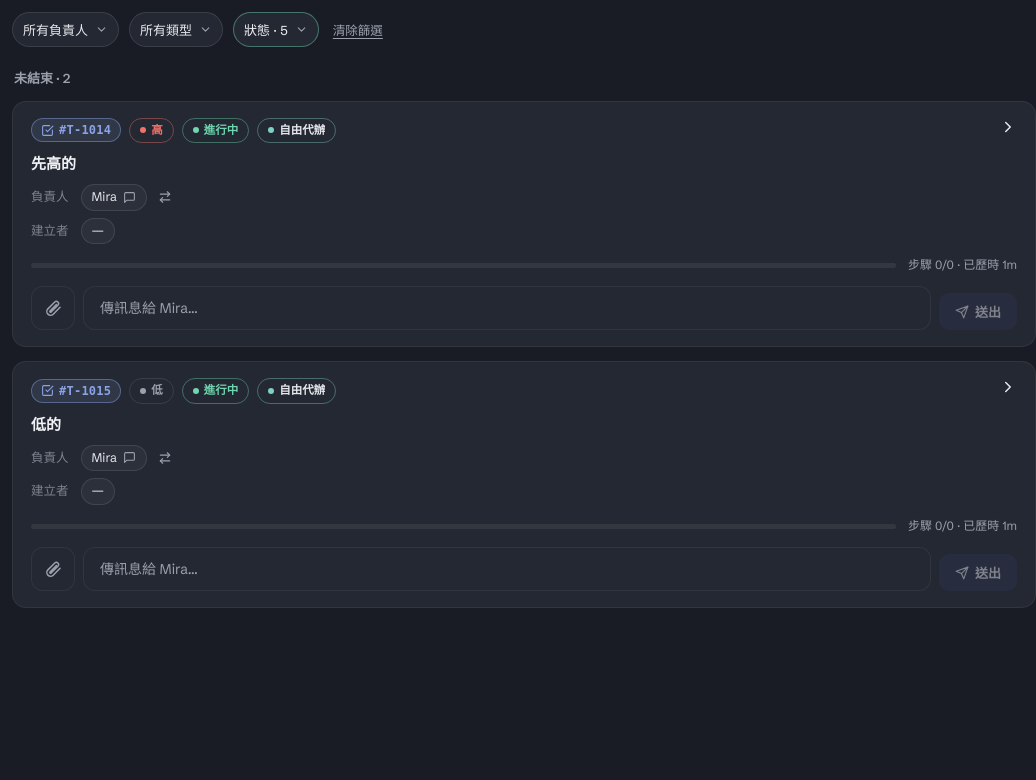
TasksPage › changes priority (freeze) through the in-place chip picker — the frozen task drops to the tail
Expected: the heading with class "task-card__title" reads "先高的", [31,154,76,173]
Click the button with test id "task-priority" showing "高" at coordinates (152, 130), box [129,118,174,143]
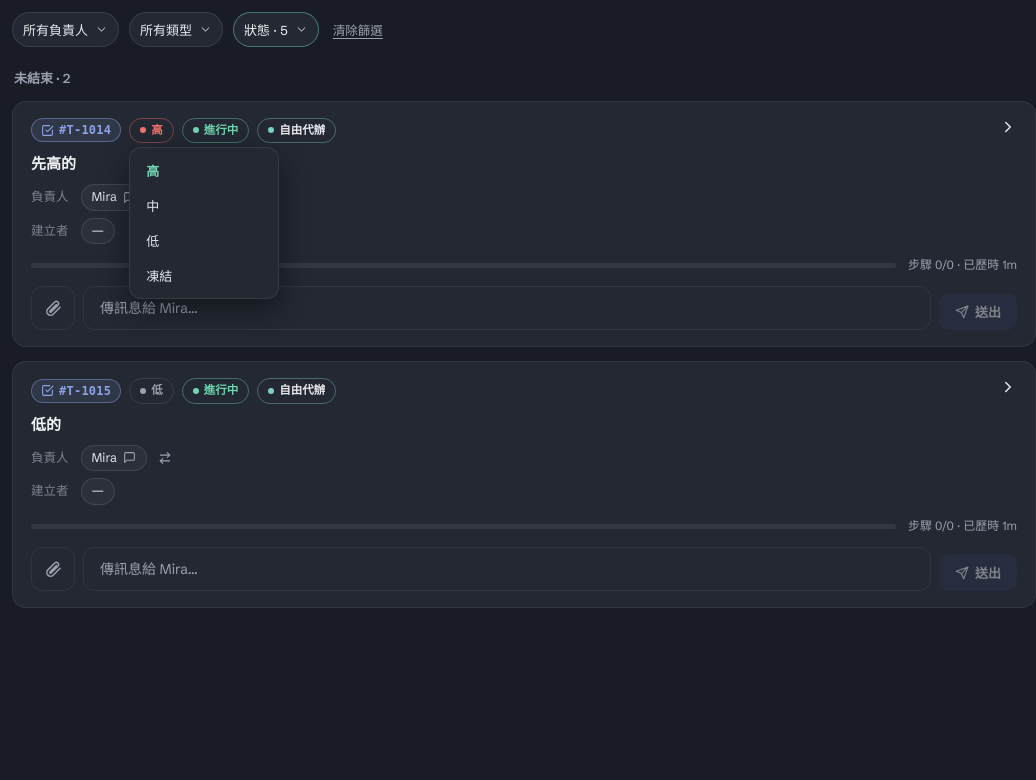
Click the menu item with test id "priority-frozen" at coordinates (204, 275), box [136,259,272,292]
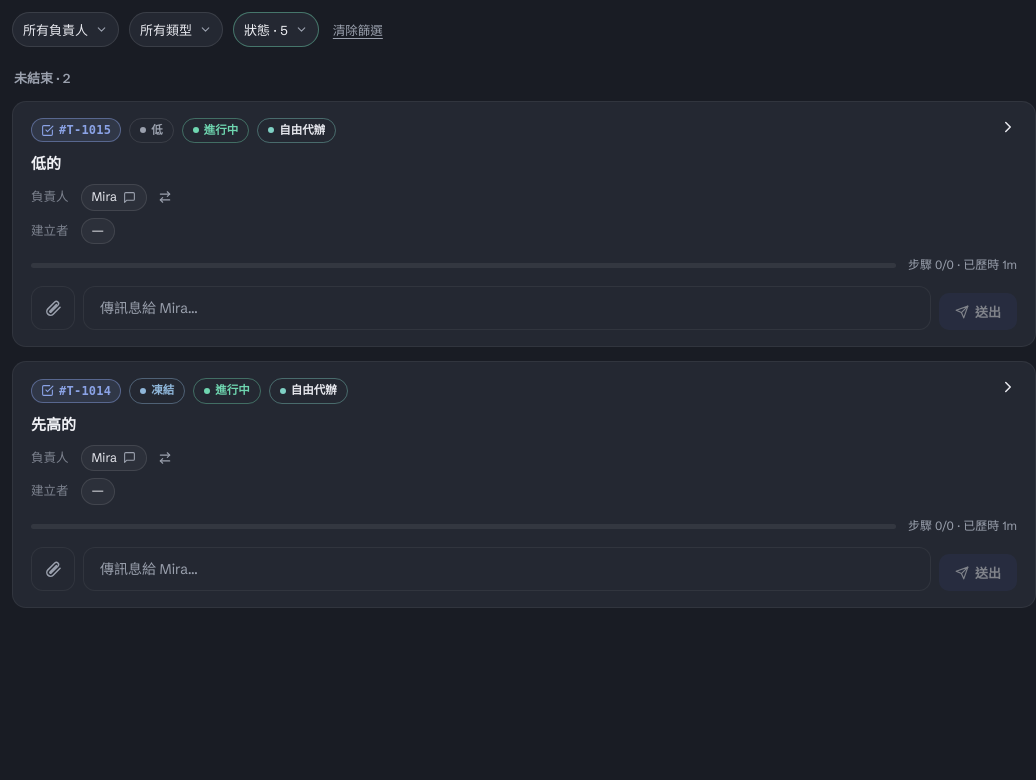
Expected: the heading with class "task-card__title" reads "低的", [31,154,61,173]
Now the button with test id "task-priority" reads "凍結", box [129,378,185,404]
